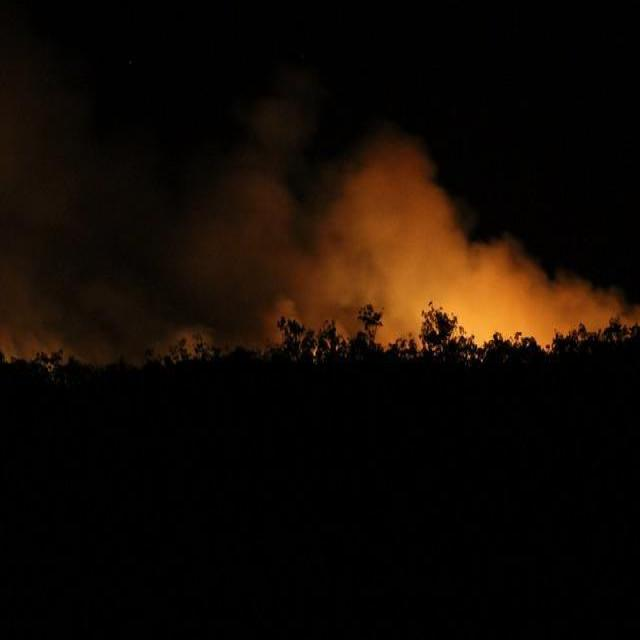smoke: (308, 153, 585, 301)
